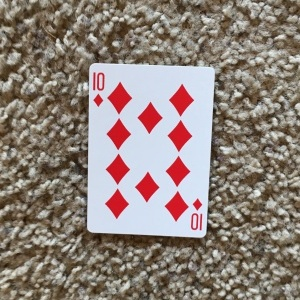card: (86, 61, 214, 239)
